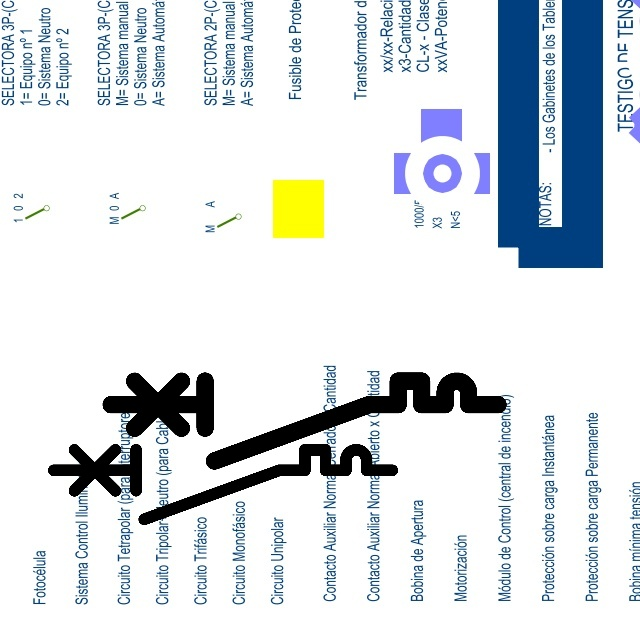interruptor_termomagnetico: (101, 371, 508, 470), (45, 441, 401, 528)
